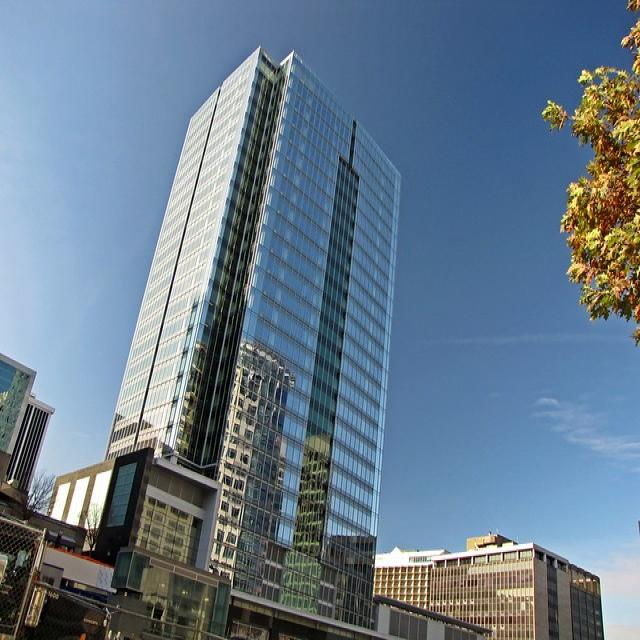Normal_building: (90, 45, 404, 639)
